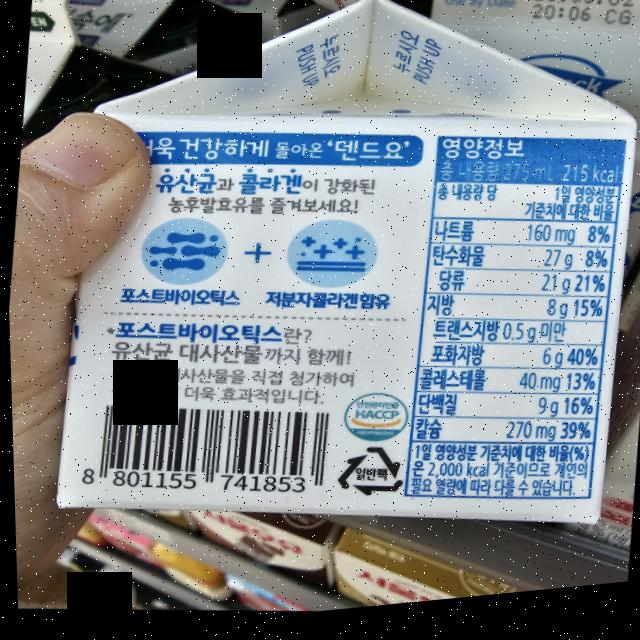NormalPack: (328, 445, 406, 515)
